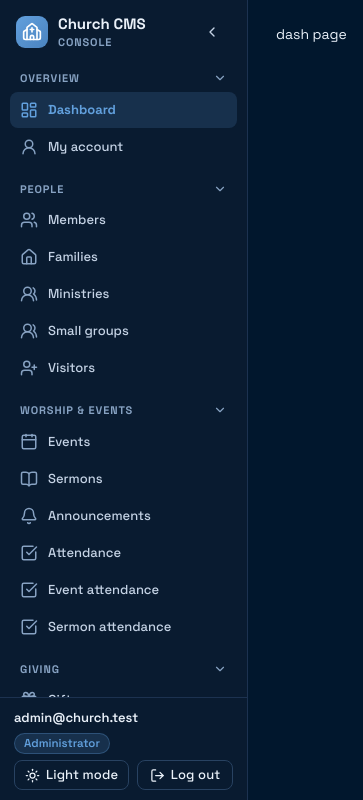
Scenario: the data-driven shell › collapses the sidebar to a rail of labelled icons
Click the button named "Collapse sidebar".
click(212, 32)  # box [193, 17, 231, 47]
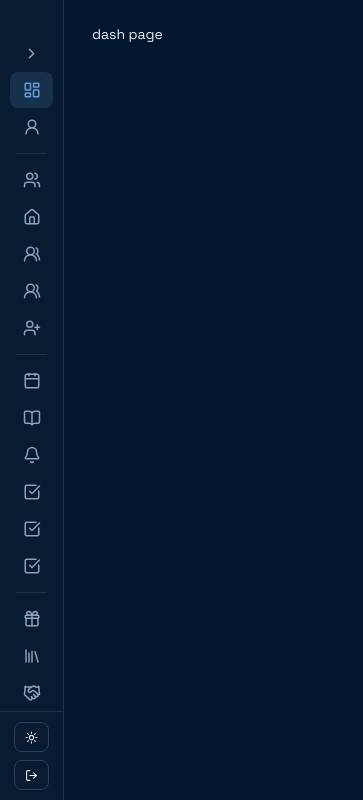
Expected: the link named "Members" is shown, [22, 171, 40, 189]
Now the text "Church CMS" is gone
